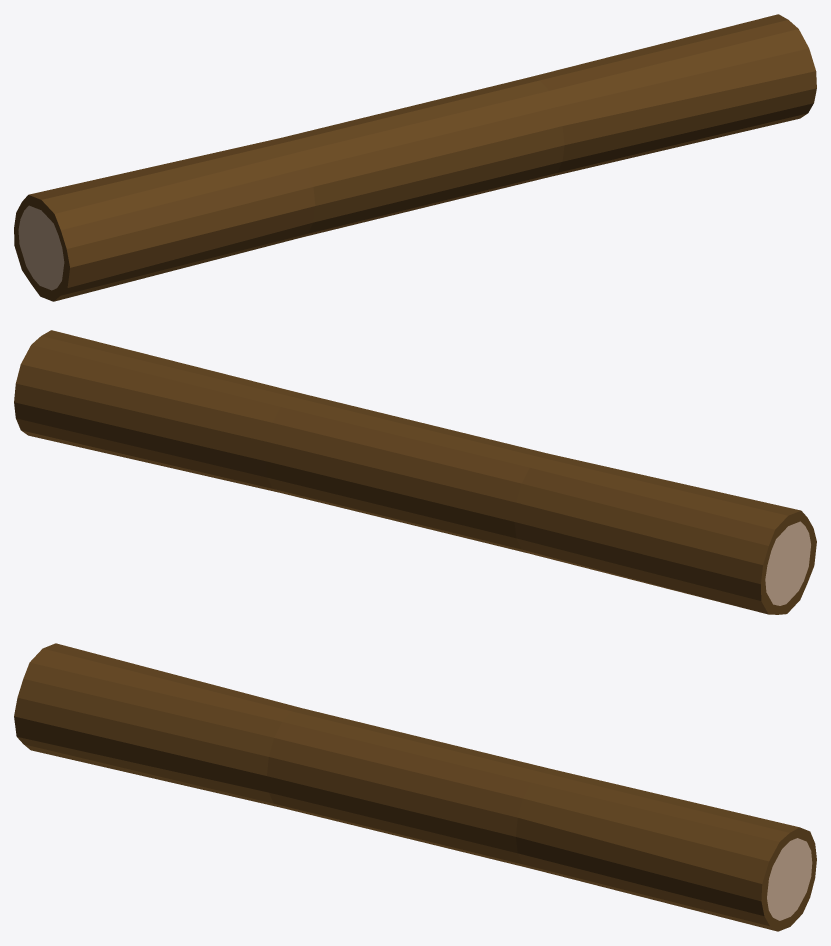
The model's file is log.fbx.
3 views of the same model, one above another, from view 1: azimuth 30°, elevation 25°; view 2: azimuth 150°, elevation 25°; view 3: azimuth 330°, elevation 25° (orthographic).
Parts seen in each view (by area): view 1: log; view 2: log; view 3: log.
Part boxes in pixels (x1,y1,x2,y2): log: [14, 14, 816, 301]; log: [14, 330, 816, 614]; log: [14, 643, 816, 931].
Bounding box in the file's own units: 422 × 52.68 × 54.98.
